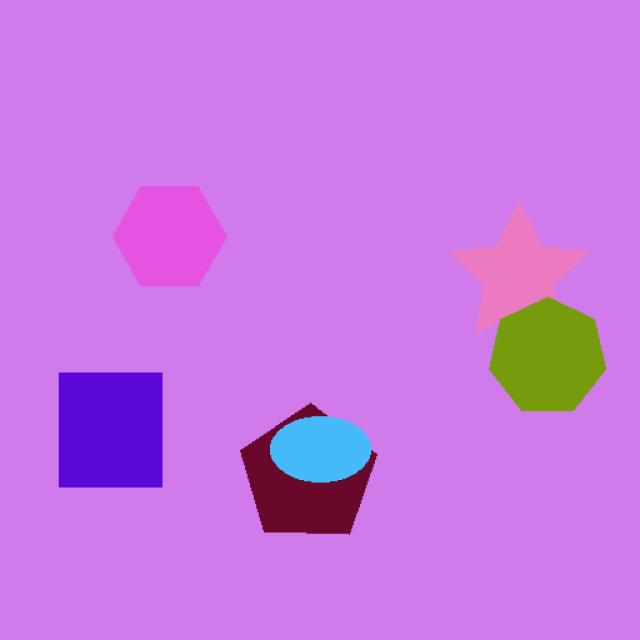Heptagon: (481, 289, 611, 440)
Hexagon: (86, 175, 252, 300)
Oval: (262, 411, 400, 499)
Pentagon: (229, 392, 381, 565)
Star: (444, 184, 590, 340)
square: (43, 361, 185, 503)
